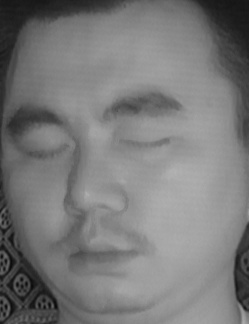blink: (117, 124, 173, 163), (20, 134, 71, 173)
mouth: (57, 225, 147, 284)
